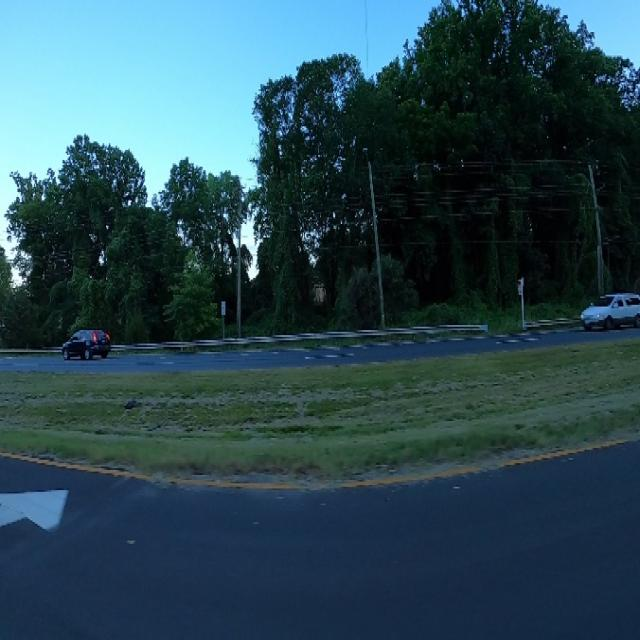cars: (582, 287, 640, 352), (60, 323, 115, 364)
